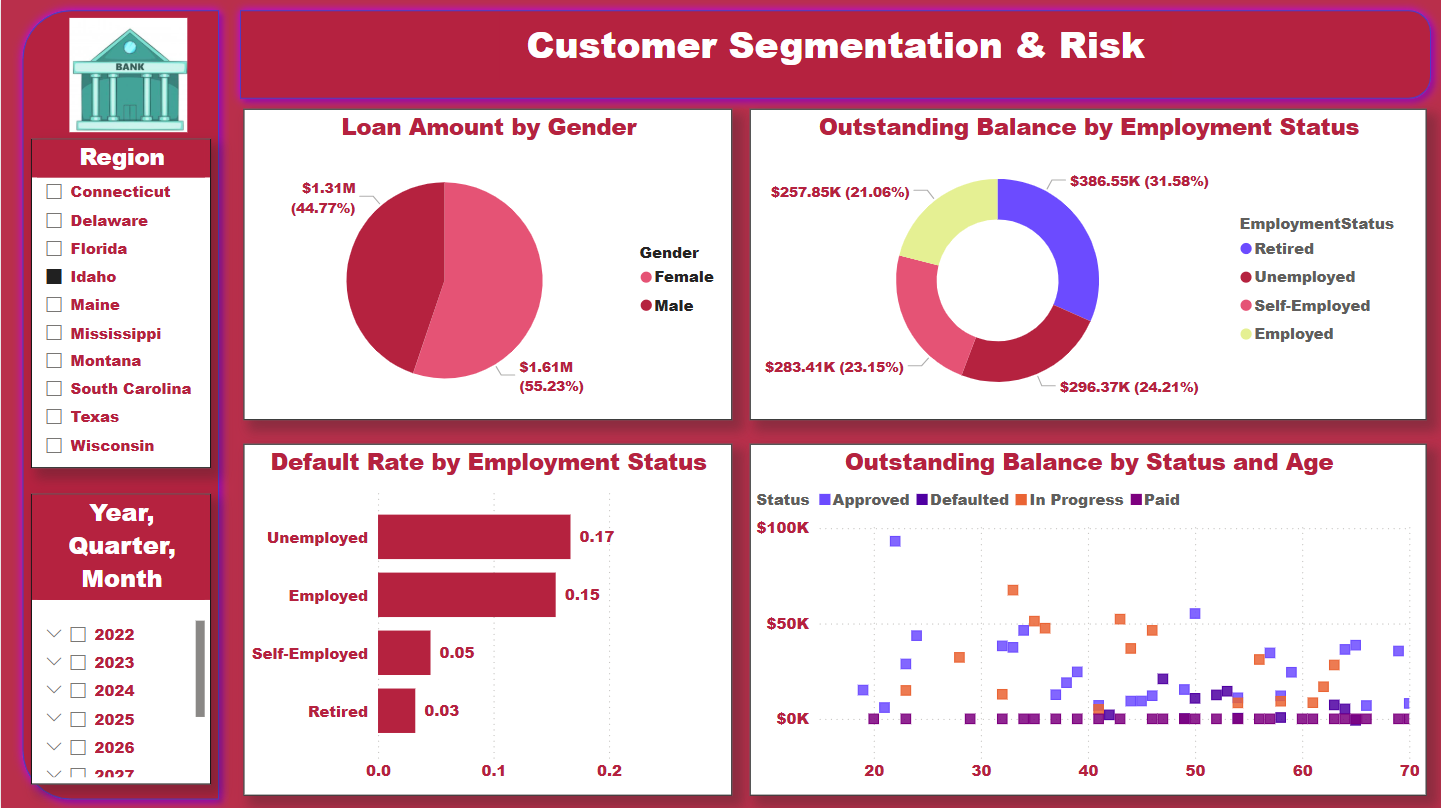

The dashboard page shown, as its layout file describes it:
{"tool":"powerbi","page":{"name":"Page 2","canvas":[1280,720],"ordinal":1},"visuals":[{"type":"shape","box":[10,0,192.9,720],"z":0},{"type":"shape","box":[202.9,0,1077.1,97.1],"z":1},{"type":"pieChart","title":"Loan Amount by Gender","fields":{"Category":["dim_customer.Gender"],"Y":["Sum(fact_loans.LoanAmount)"]},"box":[215.7,97.1,434.3,277.1],"z":2},{"type":"barChart","title":"Default Rate by Employment Status","fields":{"Category":["dim_customer.EmploymentStatus"],"Y":["fact_loans.DefaultRate"]},"box":[215.7,394.3,434.3,312.9],"z":3},{"type":"scatterChart","title":"Outstanding Balance by Status and Age","fields":{"X":["dim_customer.Age"],"Y":["Sum(fact_loans.OutstandingBalance)"],"Series":["fact_loans.Status"]},"box":[665.7,394.3,601.4,312.9],"z":4},{"type":"donutChart","title":"Outstanding Balance by Employment Status","fields":{"Category":["dim_customer.EmploymentStatus"],"Y":["Sum(fact_loans.OutstandingBalance)"]},"box":[665.7,97.1,601.4,277.1],"z":5},{"type":"textbox","box":[442.9,11.4,597.1,60],"z":6},{"type":"slicer","title":"Region","fields":{"Values":["dim_branch.Region"]},"box":[27.1,122.9,160,292.9],"z":7},{"type":"slicer","title":"Year, Quarter, Month","fields":{"Values":["Calender.Date.Variation.Date Hierarchy.Year","Calender.Date.Variation.Date Hierarchy.Quarter","Calender.Date.Variation.Date Hierarchy.Month"]},"box":[27.1,438.6,160,258.6],"z":8},{"type":"image","box":[0,11.4,225.7,111.4],"z":9}]}

Visuals, with their boxes in screenshot pixels (x1, y1, x2, y2), scaled from the page's 1280x720 canvas onto the 1441x808 screenshot:
shape: (11, 0, 228, 807)
shape: (228, 0, 1440, 109)
"Loan Amount by Gender" pieChart: (243, 109, 732, 420)
"Default Rate by Employment Status" barChart: (243, 442, 732, 794)
"Outstanding Balance by Status and Age" scatterChart: (749, 442, 1426, 794)
"Outstanding Balance by Employment Status" donutChart: (749, 109, 1426, 420)
textbox: (499, 13, 1171, 80)
"Region" slicer: (31, 138, 211, 467)
"Year, Quarter, Month" slicer: (31, 492, 211, 782)
image: (0, 13, 254, 138)
